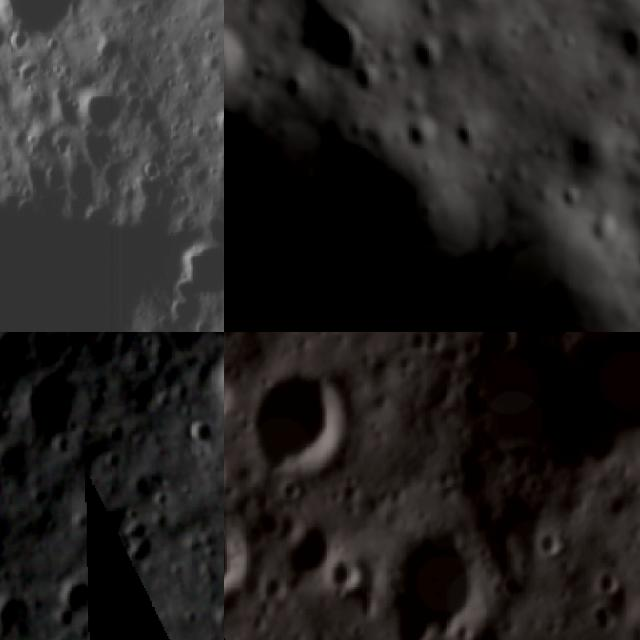crater: (0, 174, 220, 332), (474, 332, 640, 473), (382, 518, 491, 640), (246, 360, 359, 470), (287, 0, 369, 91), (18, 362, 92, 442), (0, 0, 101, 55), (280, 511, 344, 582), (224, 494, 259, 602), (113, 506, 162, 574), (398, 109, 451, 167), (409, 30, 456, 90), (414, 368, 462, 418), (198, 348, 224, 434), (224, 16, 248, 109), (323, 551, 370, 598), (0, 431, 40, 486), (51, 576, 103, 616), (0, 584, 39, 635), (586, 558, 632, 599), (532, 518, 572, 563), (462, 332, 522, 362), (93, 610, 135, 640), (523, 0, 601, 16), (586, 599, 620, 633), (184, 416, 213, 455), (224, 363, 238, 437), (300, 623, 337, 640)
